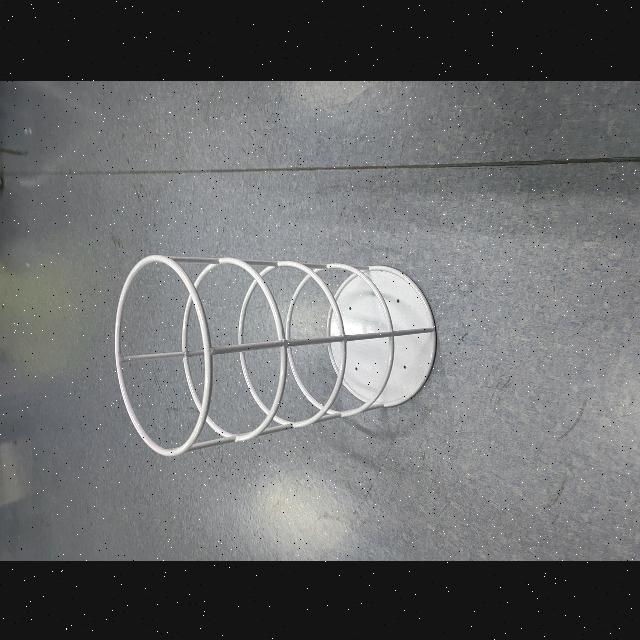S: (110, 250, 438, 458)
